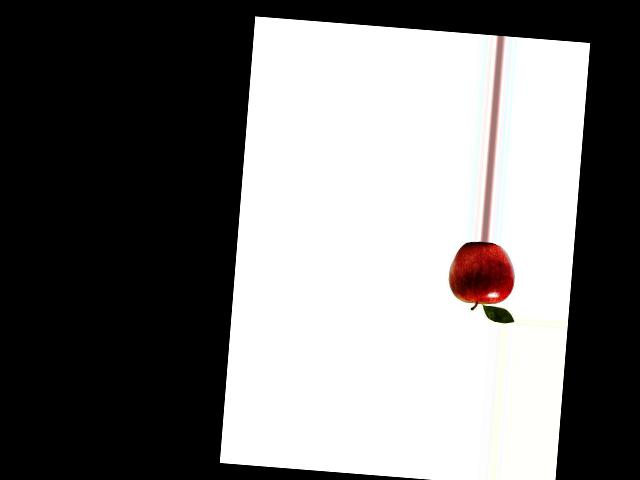apple: (445, 239, 521, 310)
